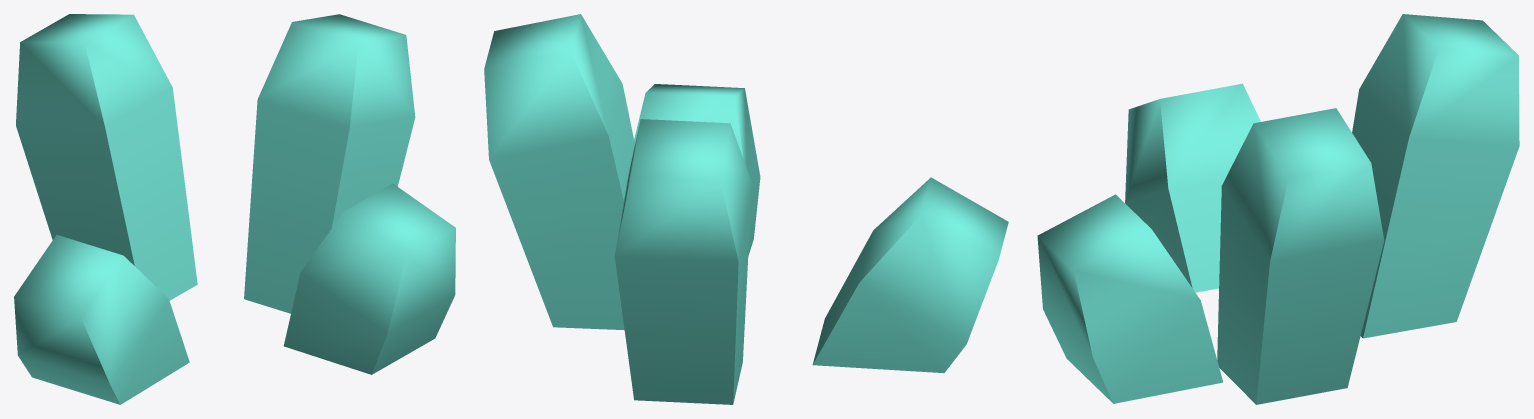
The model's file is lilplants.glb.
3 views of the same model, side by side, from view 1: azimuth 30°, elevation 25°; view 2: azimuth 150°, elevation 25°; view 3: azimuth 270°, elevation 25° (orthographic). The views are drawn at different scales.
Visible parts, largest first — view 1: customize area1.002; view 2: customize area1.002; view 3: customize area1.002.
Boxes of the visible parts, x1,y1,x2,y2 form: customize area1.002: (14, 14, 455, 404); customize area1.002: (484, 14, 1008, 404); customize area1.002: (1037, 14, 1519, 404).
Size of the model in its own units: 3.61 by 2.03 by 3.23.
